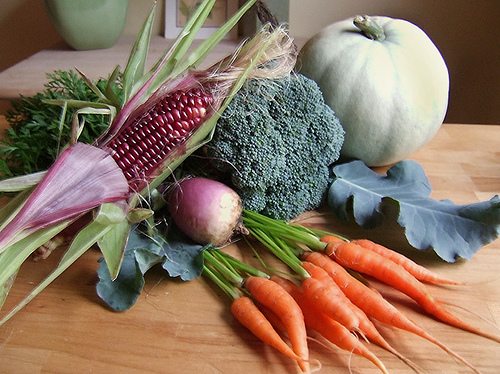turnip: (168, 172, 245, 250)
